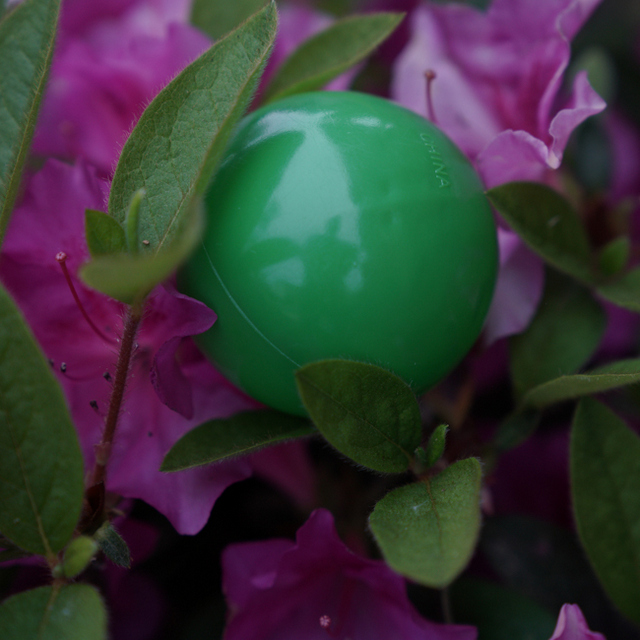Ball: (181, 95, 491, 407)
